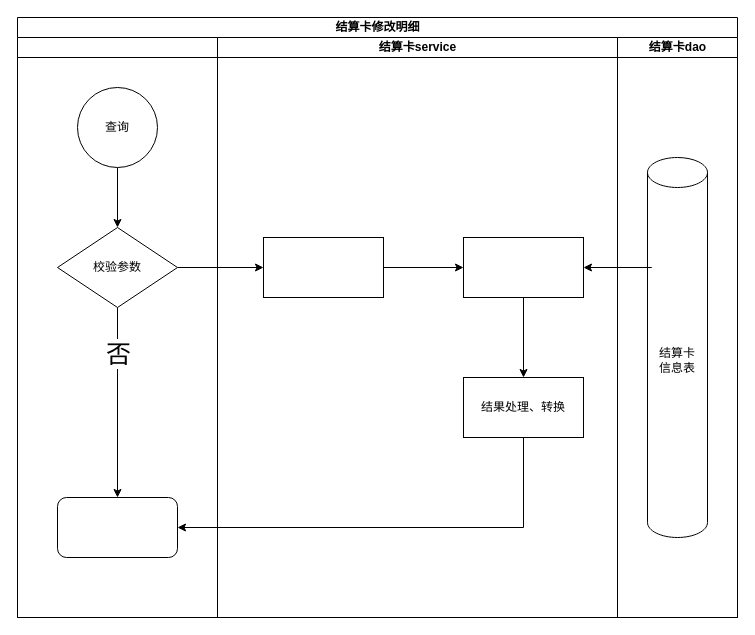
This 755x635 diagram has some shape labels left out. The box of each missing label's shape, as (x1, y1, x2, y2) in pixels:
条件转换: (262, 236, 384, 298)
结束: (56, 496, 178, 558)
结算卡controller: (16, 36, 218, 618)
获取数据库数据: (462, 236, 584, 298)
